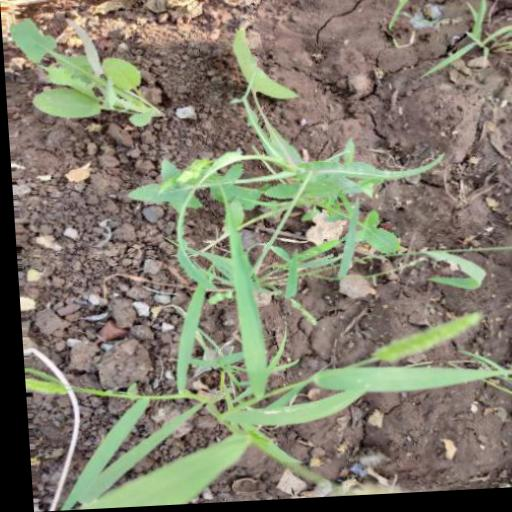weed: (144, 146, 433, 380), (5, 6, 185, 141)
